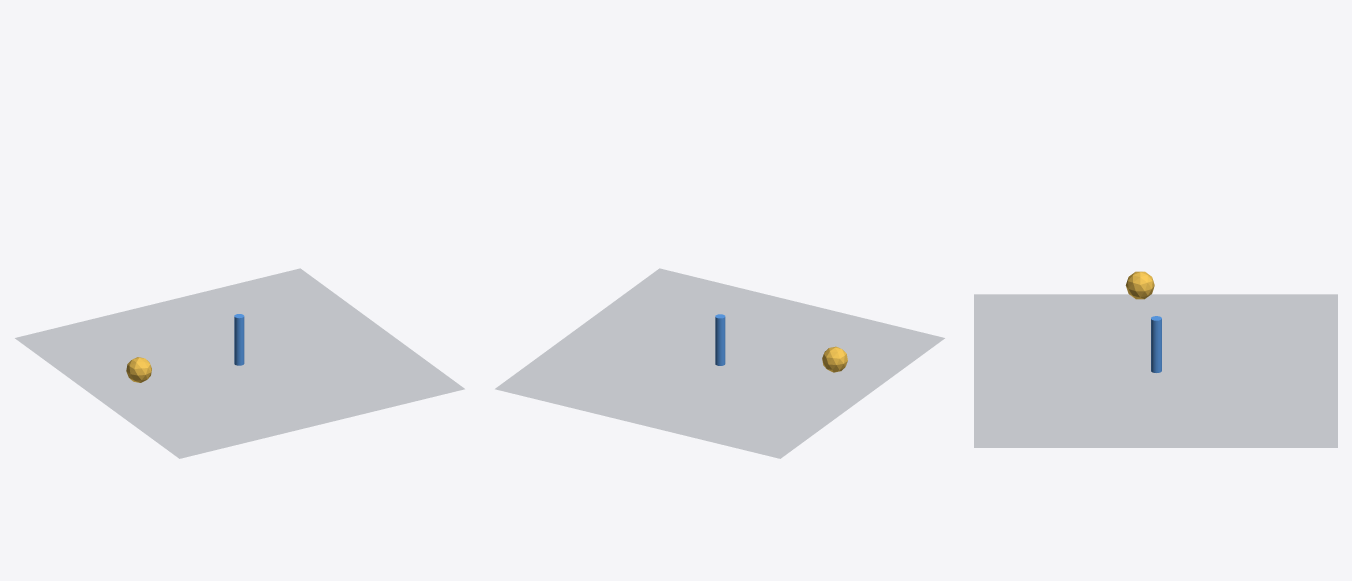
File: RopeSoftbody.glb
3 renders of one model, left to right at view 1: azimuth 30°, elevation 25°; view 2: azimuth 150°, elevation 25°; view 3: azimuth 270°, elevation 25°, orthographic. The views are drawn at different scales.
Visible parts, largest first — view 1: Plane.003, Cylinder.001; view 2: Plane.003, Cylinder.001; view 3: Plane.003, Icosphere.001, Cylinder.001.
Part boxes in pixels (left/top/right/bottom): Plane.003: left=15, top=268, right=464, bottom=458; Cylinder.001: left=234, top=314, right=244, bottom=365; Plane.003: left=495, top=268, right=944, bottom=458; Cylinder.001: left=715, top=314, right=725, bottom=365; Plane.003: left=974, top=294, right=1337, bottom=447; Icosphere.001: left=1125, top=271, right=1154, bottom=299; Cylinder.001: left=1151, top=316, right=1161, bottom=372.
Bounding box in the file's own units: 4 × 4.84 × 4.
